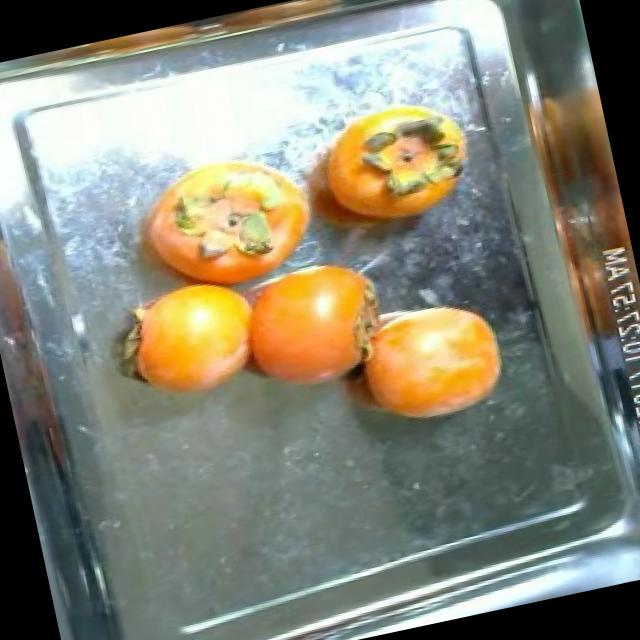Fruit: (201, 246, 416, 417), (123, 127, 330, 285), (95, 253, 282, 423), (337, 284, 524, 444), (324, 80, 489, 214)
